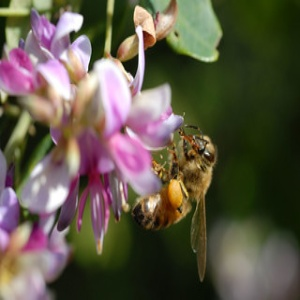bee: (131, 122, 219, 285)
